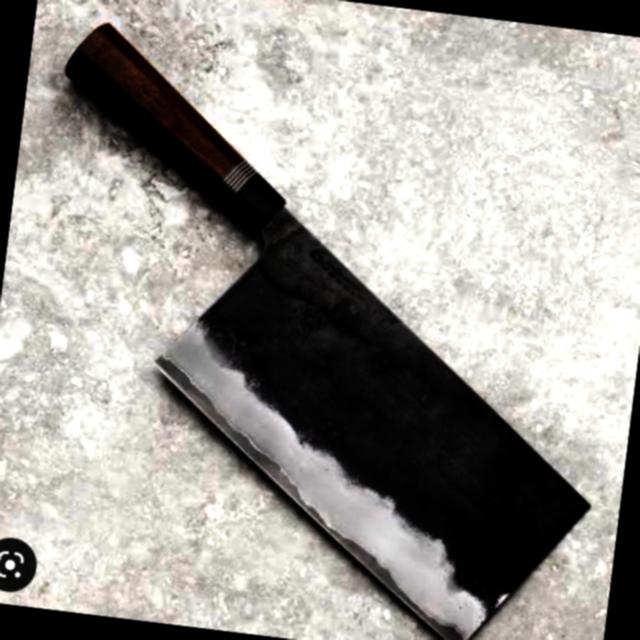knife: (35, 14, 640, 640)
